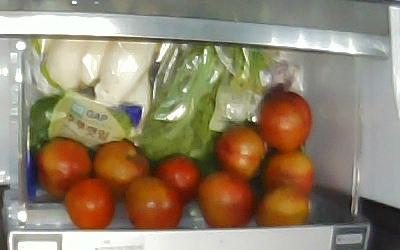prune: (92, 141, 153, 197), (35, 140, 93, 197), (196, 172, 255, 227), (258, 92, 311, 152), (126, 178, 184, 230), (214, 128, 267, 180), (257, 150, 314, 197), (151, 153, 202, 205), (257, 181, 311, 229), (65, 179, 115, 230)
